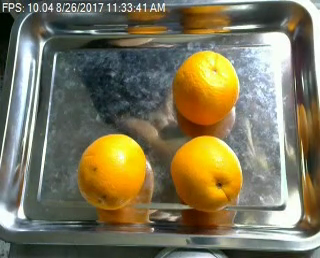Orange: (169, 135, 242, 212), (77, 134, 147, 211), (172, 49, 240, 122)
